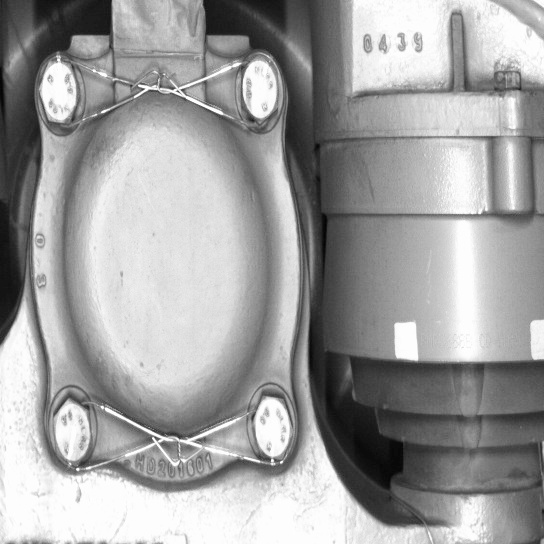IronWire: (28, 48, 284, 136), (48, 384, 300, 471)
Screw: (244, 385, 298, 467), (31, 56, 84, 133), (235, 48, 282, 131), (48, 390, 95, 471)
